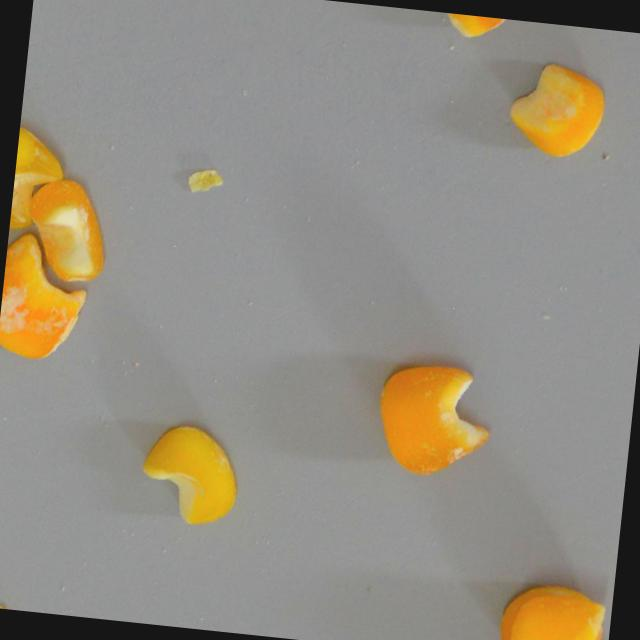no_canjicado: (133, 414, 245, 532), (500, 54, 608, 165)
pelicula: (368, 350, 499, 487), (0, 227, 95, 365), (19, 170, 113, 293), (494, 575, 613, 640), (7, 120, 71, 238), (394, 6, 514, 46)
